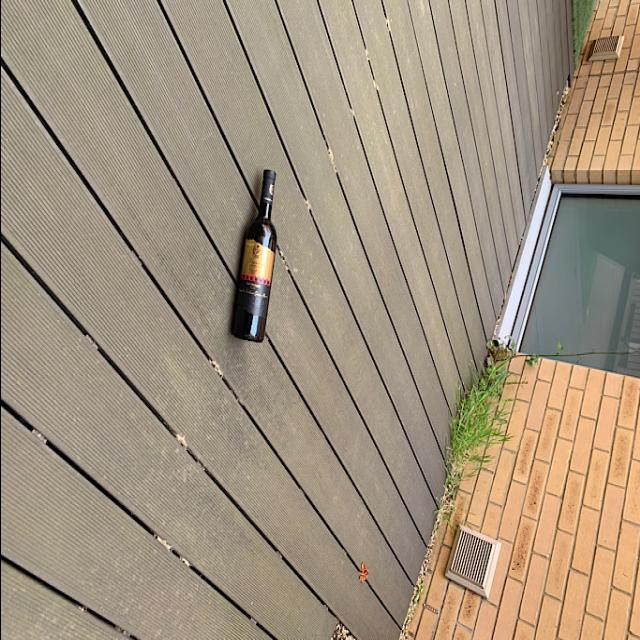litter: (228, 163, 278, 345)
